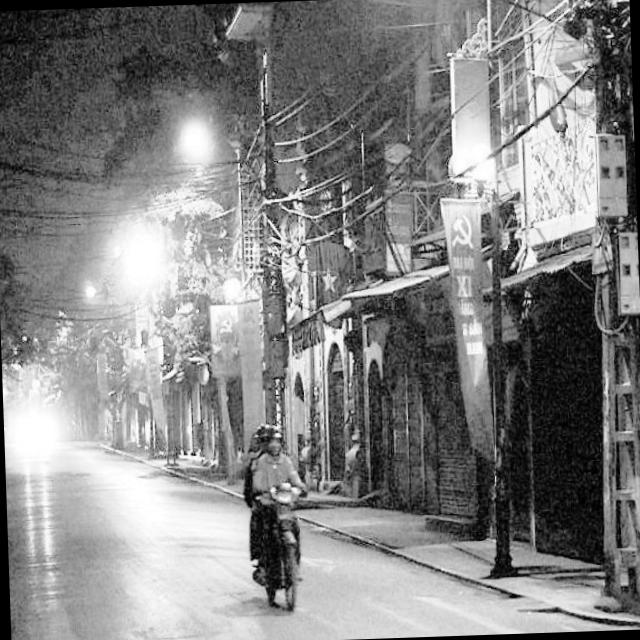Car: (7, 403, 58, 458)
Motorcycle: (224, 460, 320, 618)
